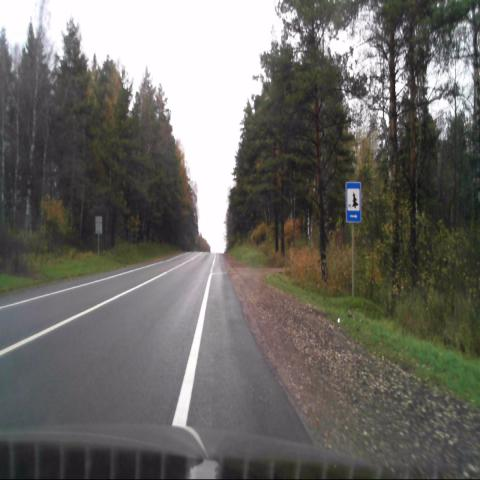7_11: (346, 181, 360, 222)
